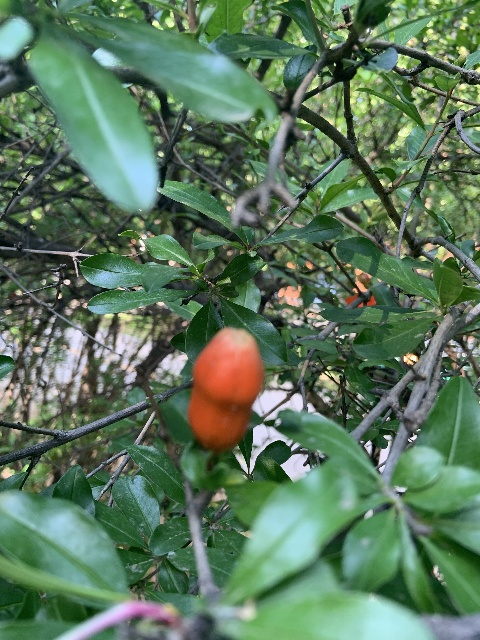bud: (187, 326, 264, 452)
